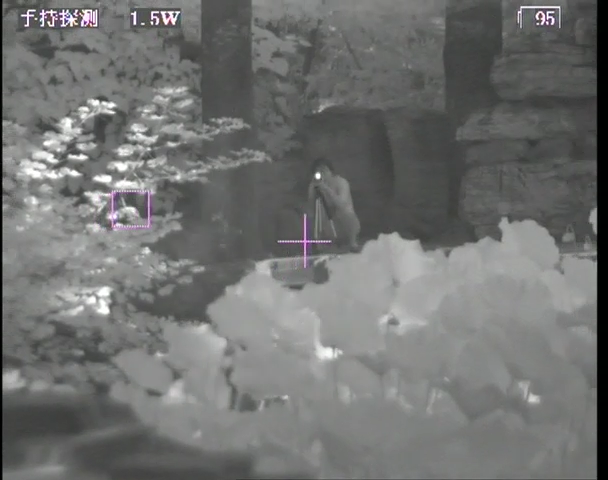my: (312, 171, 324, 181)
